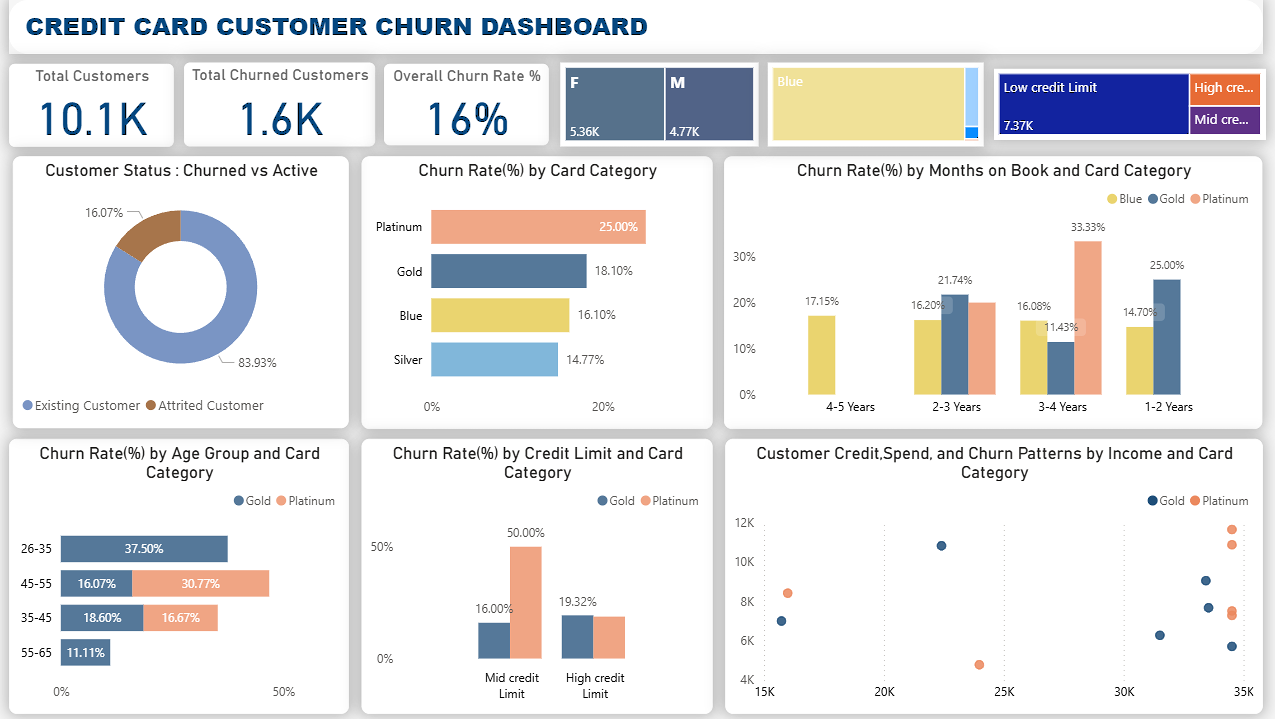

This screenshot's page, from the dashboard's own definition file:
{"tool":"powerbi","page":{"name":"Page 1","canvas":[1280,720],"ordinal":0},"visuals":[{"type":"shape","box":[10,0,1253.8,54],"z":0},{"type":"textbox","box":[21.2,3.8,726.2,46.2],"z":1000},{"type":"card","title":"Total Customers","fields":{"Values":["credit_card_customer.Total_customers"]},"box":[9.5,64.3,165,83],"z":2000},{"type":"card","title":"Total Churned Customers","fields":{"Values":["credit_card_customer.Churned_customers"]},"box":[185,62.5,191.2,83.8],"z":3000},{"type":"card","title":"Overall Churn Rate %","fields":{"Values":["credit_card_customer.ChurnRate%"]},"box":[385,63.8,165,81.2],"z":4000},{"type":"barChart","title":"Churn Rate(%)  by Card Category","fields":{"Category":["credit_card_customer.Card_Category"],"Y":["credit_card_customer.ChurnRate%"]},"box":[362.5,156.2,351.2,272.5],"z":5000},{"type":"barChart","title":"Churn Rate(%) by Age Group and Card Category","fields":{"Category":["credit_card_customer.AgeGoup"],"Y":["credit_card_customer.ChurnRate%"],"Series":["credit_card_customer.Card_Category"]},"box":[10,438.8,340,275],"z":6000},{"type":"lineClusteredColumnComboChart","title":"Churn Rate(%) by Months on Book and Card Category","fields":{"Category":["credit_card_customer.MonthGroup"],"Series":["credit_card_customer.Card_Category"],"Y":["credit_card_customer.ChurnRate%"]},"box":[725,156.2,538.8,272.5],"z":7000},{"type":"clusteredColumnChart","title":"Churn Rate(%) by Credit Limit and Card Category","fields":{"Category":["credit_card_customer.Credit_new"],"Series":["credit_card_customer.Card_Category"],"Y":["credit_card_customer.ChurnRate%"]},"box":[362.5,438.8,351.2,275],"z":8000},{"type":"scatterChart","title":"Customer Credit,Spend, and Churn Patterns by Income and Card Category","fields":{"X":["Avg(credit_card_customer.Credit_Limit)"],"Y":["credit_card_customer.Average_transaction amount"],"Category":["credit_card_customer.Income_Category"],"Series":["credit_card_customer.Card_Category"]},"box":[726.2,438.8,537.5,275],"z":9000},{"type":"donutChart","title":"Customer Status : Churned vs Active","fields":{"Category":["credit_card_customer.Attrition_Flag"],"Y":["credit_card_customer.Total_customers"]},"box":[13.8,156.2,336.2,272],"z":10000},{"type":"treemap","fields":{"Group":["credit_card_customer.Gender"],"Values":["CountNonNull(credit_card_customer.CLIENTNUM)"]},"box":[561.2,62.5,198.8,83.8],"z":11000},{"type":"treemap","fields":{"Group":["credit_card_customer.Card_Category"],"Values":["CountNonNull(credit_card_customer.CLIENTNUM)"]},"box":[768.8,62.5,216.2,83.8],"z":12000},{"type":"treemap","fields":{"Values":["CountNonNull(credit_card_customer.CLIENTNUM)"],"Group":["credit_card_customer.Credit_new"]},"box":[995,68.8,272,71.2],"z":13000}]}

Visuals, with their boxes in screenshot pixels (x1, y1, x2, y2), scaled from the page's 1280x720 canvas onto the 1275x719 screenshot:
shape: x1=10 y1=0 x2=1259 y2=54
textbox: x1=21 y1=4 x2=744 y2=50
"Total Customers" card: x1=9 y1=64 x2=174 y2=147
"Total Churned Customers" card: x1=184 y1=62 x2=375 y2=146
"Overall Churn Rate %" card: x1=383 y1=64 x2=548 y2=145
"Churn Rate(%)  by Card Category" barChart: x1=361 y1=156 x2=711 y2=428
"Churn Rate(%) by Age Group and Card Category" barChart: x1=10 y1=438 x2=349 y2=713
"Churn Rate(%) by Months on Book and Card Category" lineClusteredColumnComboChart: x1=722 y1=156 x2=1259 y2=428
"Churn Rate(%) by Credit Limit and Card Category" clusteredColumnChart: x1=361 y1=438 x2=711 y2=713
"Customer Credit,Spend, and Churn Patterns by Income and Card Category" scatterChart: x1=723 y1=438 x2=1259 y2=713
"Customer Status : Churned vs Active" donutChart: x1=14 y1=156 x2=349 y2=428
treemap - credit_card_customer.Gender x CountNonNull(credit_card_customer.CLIENTNUM): x1=559 y1=62 x2=757 y2=146
treemap - credit_card_customer.Card_Category x CountNonNull(credit_card_customer.CLIENTNUM): x1=766 y1=62 x2=981 y2=146
treemap - CountNonNull(credit_card_customer.CLIENTNUM) x credit_card_customer.Credit_new: x1=991 y1=69 x2=1262 y2=140
